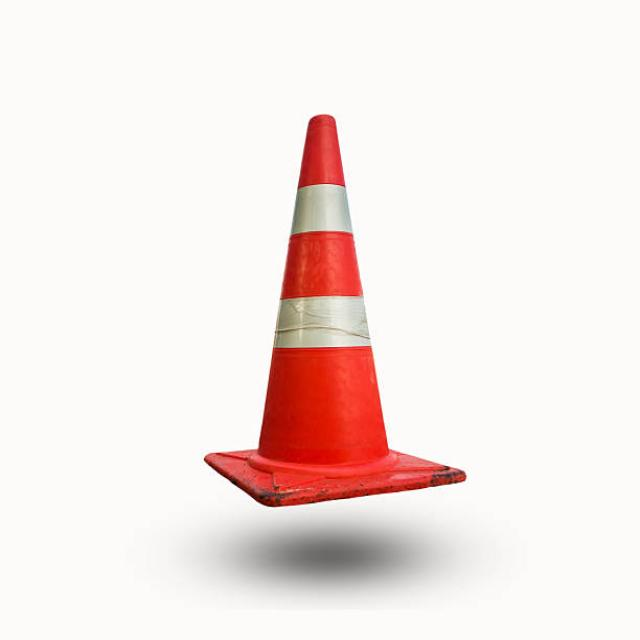Traffic Cone: (173, 79, 492, 556)
